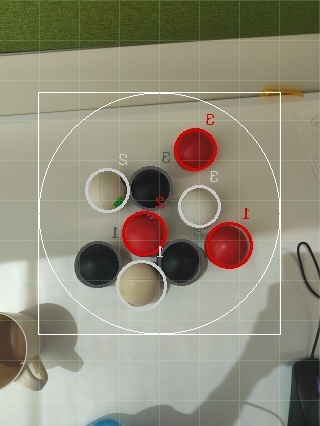Pelota blanca: (117, 260, 169, 310), (85, 166, 132, 214), (0, 310, 28, 389), (178, 182, 222, 230), (39, 334, 84, 373), (37, 302, 79, 336), (234, 401, 289, 425), (21, 355, 49, 392), (87, 414, 124, 425)
Pelota negra: (159, 238, 209, 286), (74, 238, 121, 288), (130, 164, 175, 211)
Pelota roja: (205, 220, 254, 270), (122, 209, 169, 256), (173, 126, 220, 171)
